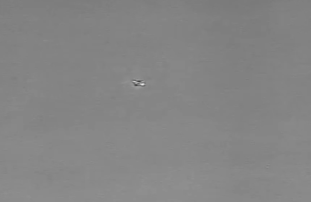Target: (133, 82, 145, 86)
